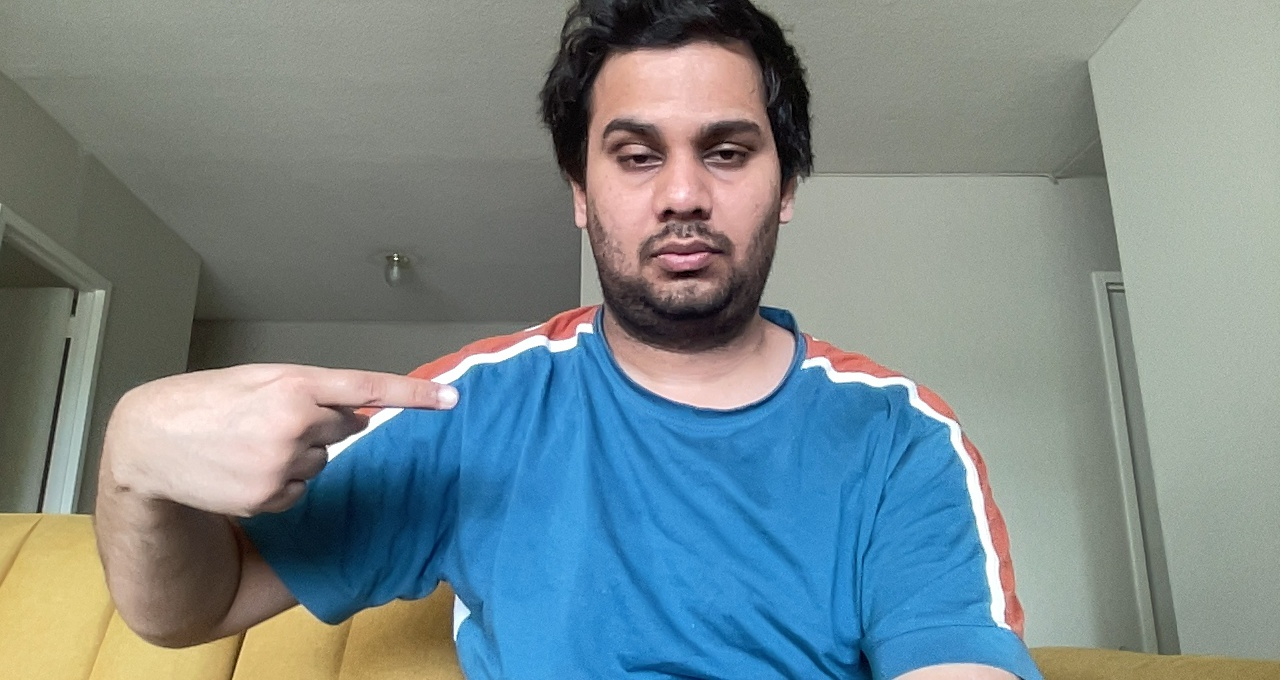fingerleft: (114, 357, 464, 519)
